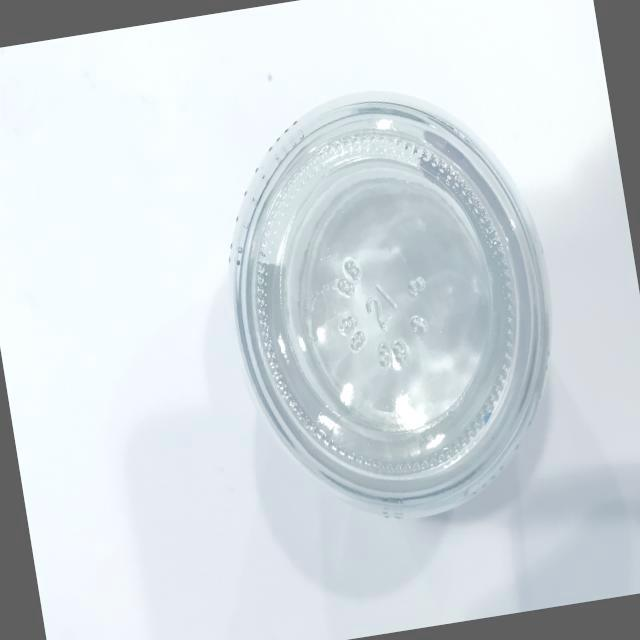glass: (188, 56, 589, 554)
